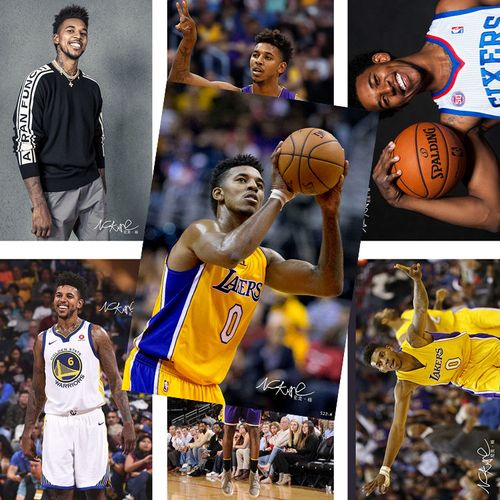ball: (389, 121, 466, 199), (279, 127, 346, 196)
